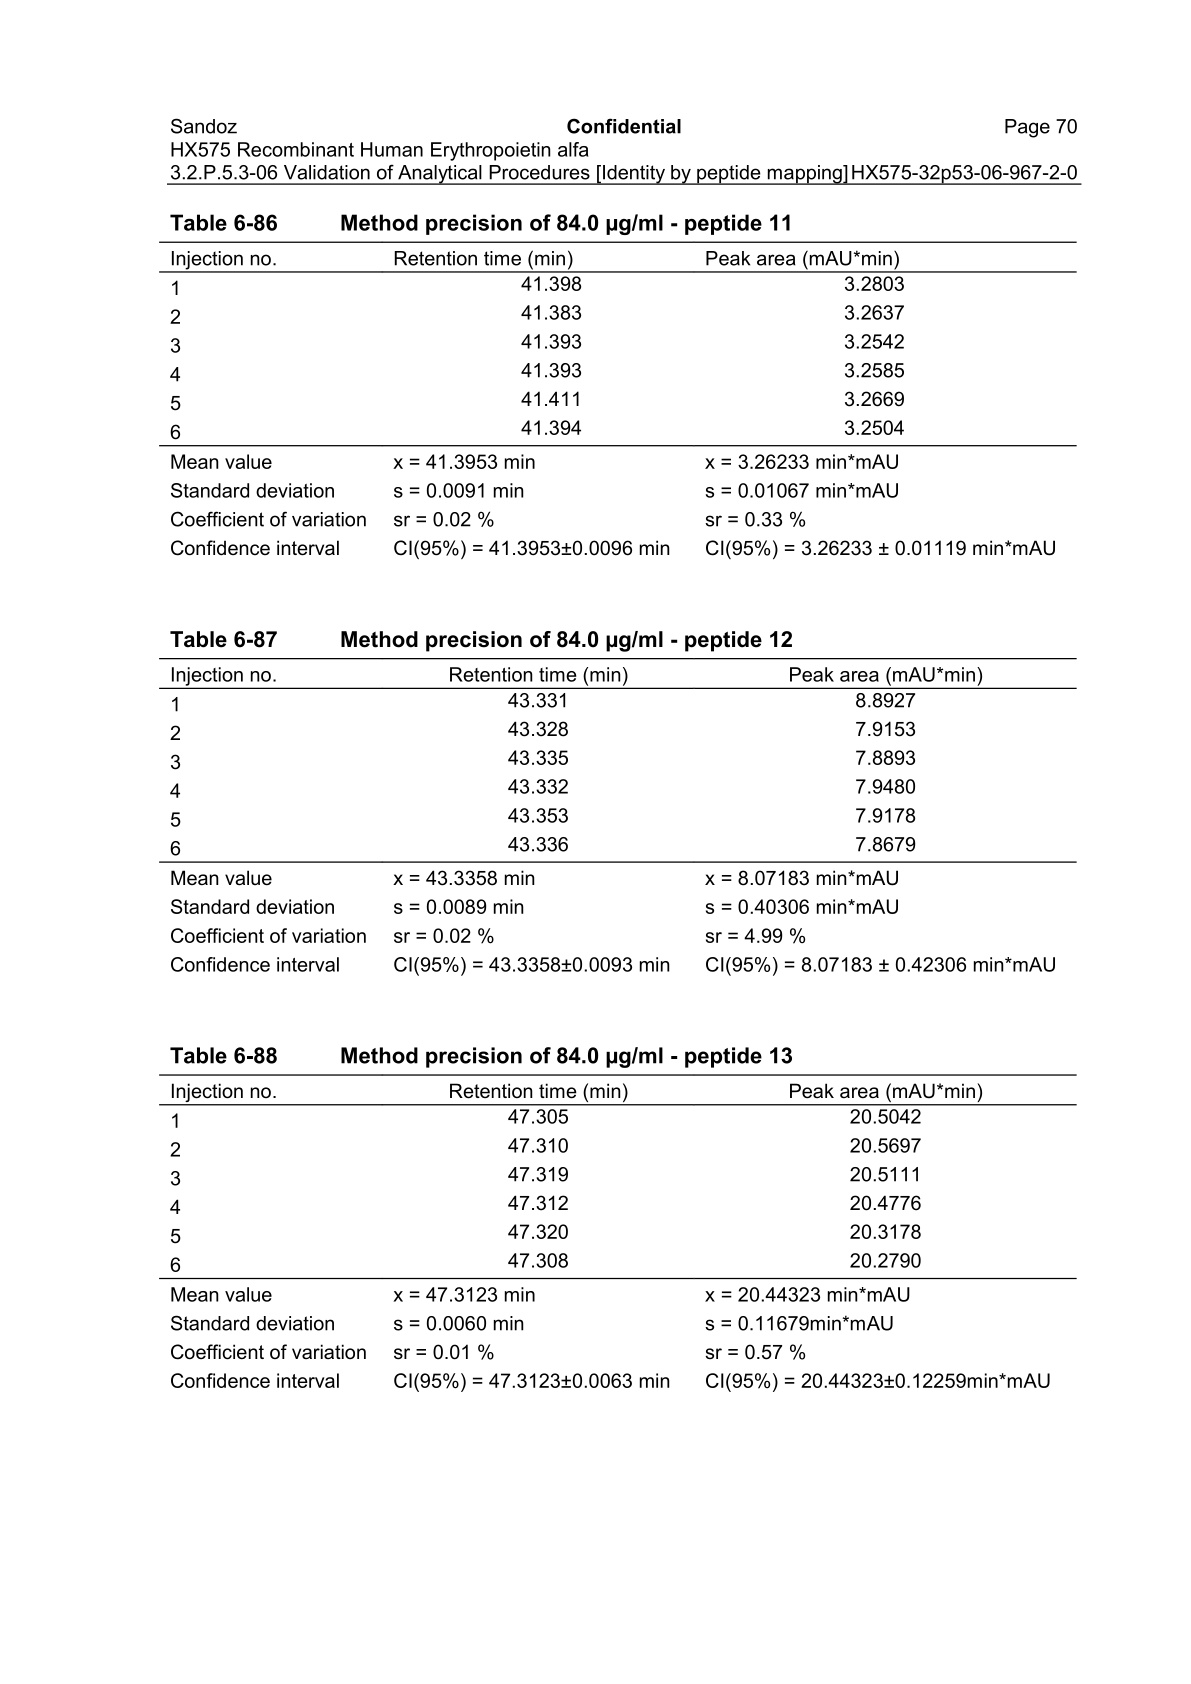partial_lined: (159, 238, 1076, 564), (159, 656, 1076, 979), (159, 1073, 1076, 1394)
